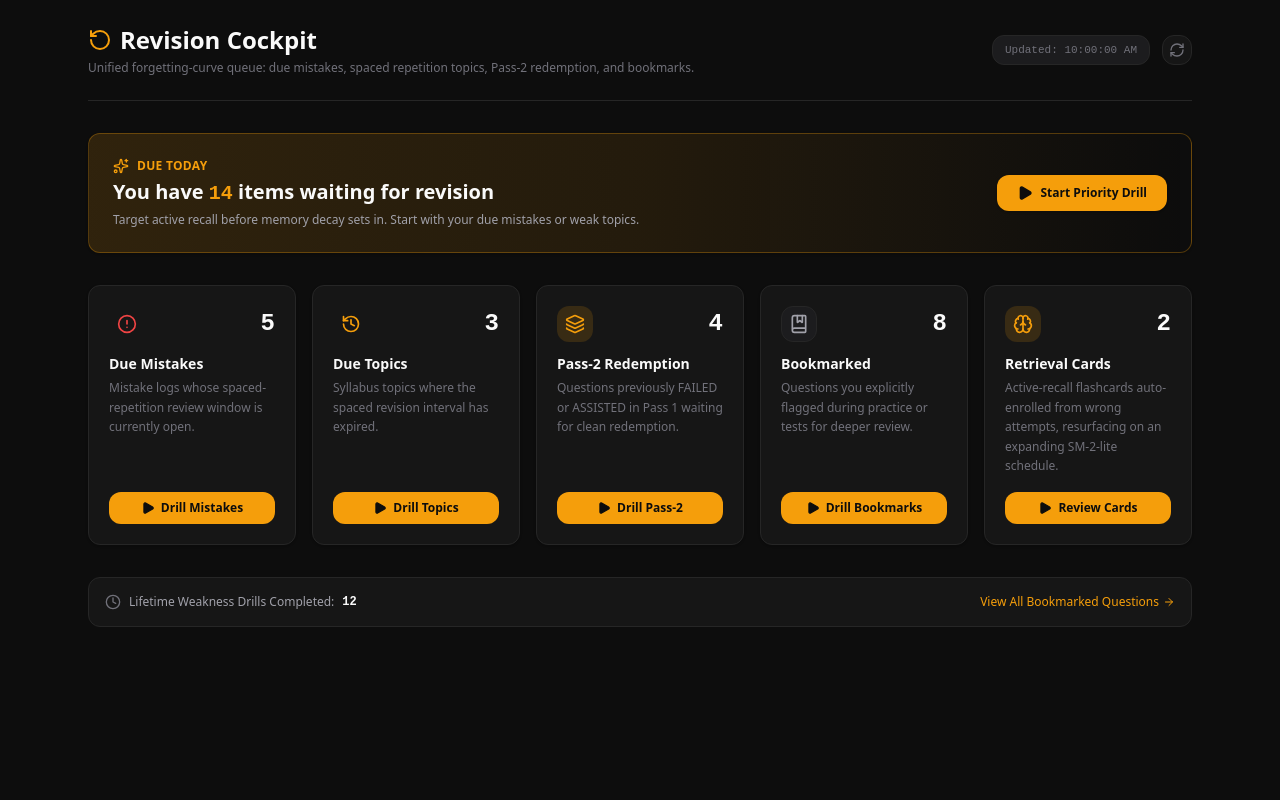
Test case: RevisionPage › 7 Action error banner is displayed when drill creation fails
Click the button with test id "btn-drill-due-mistakes" at {"x": 192, "y": 508}, box [109,492,275,524]
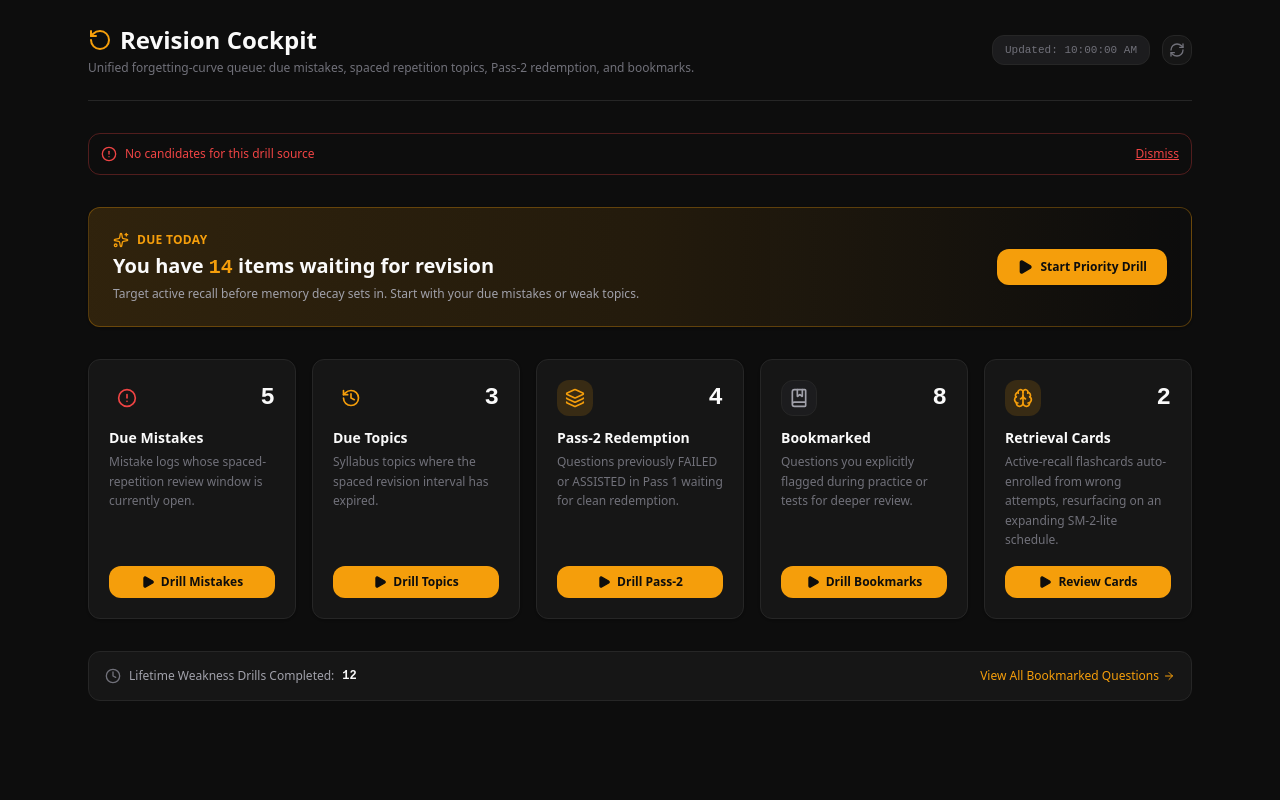
Check: the element with test id "action-error-banner" is shown, box [88,133,1192,175]
Check: the text "No candidates for this drill source" is shown, box [125,146,315,162]
